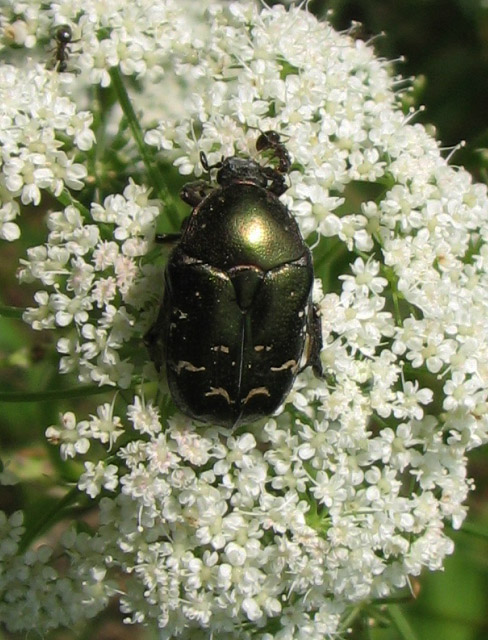Protaetia_metallica: (152, 144, 329, 431)
